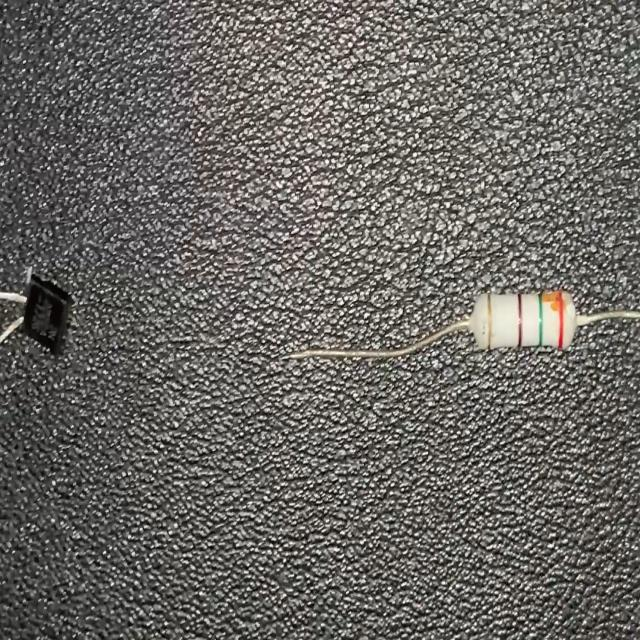burnt: (538, 289, 573, 313)
missing-leg: (0, 258, 73, 365)
resistor: (280, 283, 640, 370)
